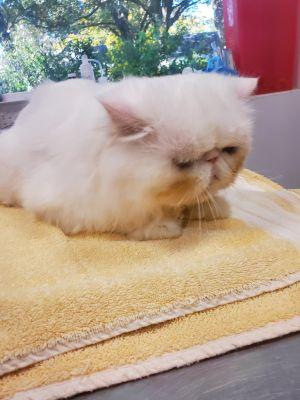persian: (92, 63, 265, 223)
